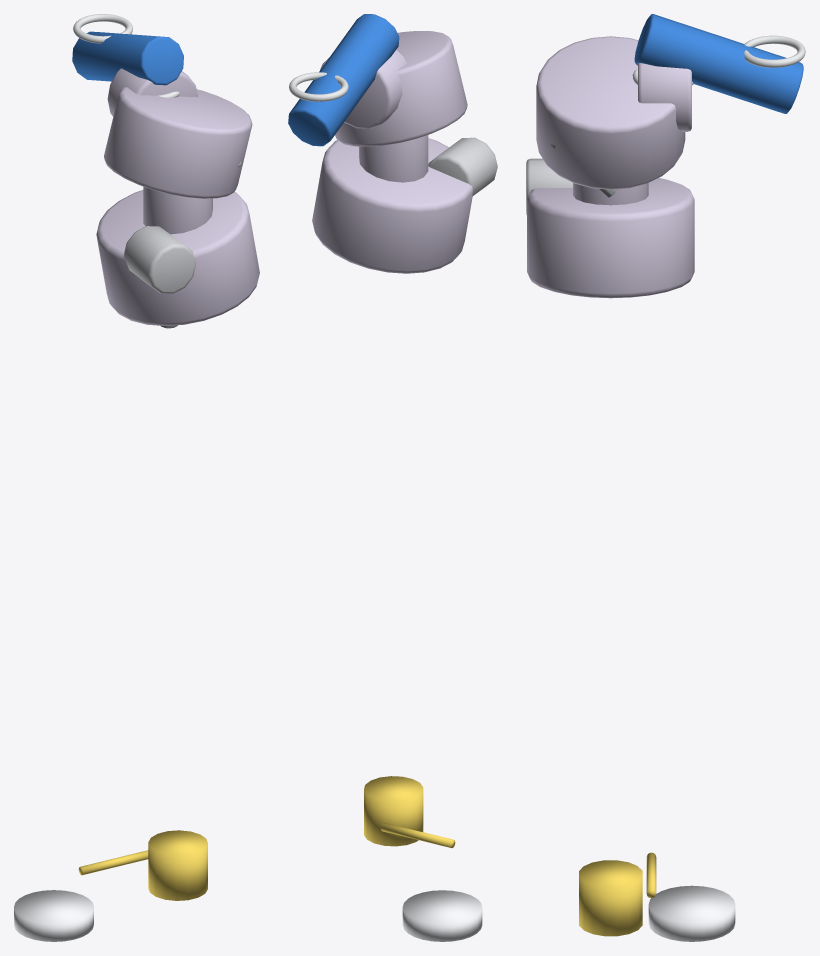
File: engine_v8_turbo_r.glb
3 views of the same model, side by side, from view 1: azimuth 30°, elevation 25°; view 2: azimuth 150°, elevation 25°; view 3: azimuth 270°, elevation 25° (orthographic). The views are drawn at different scales.
Visible parts, largest first — view 1: Engine_V8_Turbo_R, GEO_V8Turbo_WastegateActuator, GEO_V8Turbo_BilletImpeller; view 2: Engine_V8_Turbo_R, GEO_V8Turbo_WastegateActuator, GEO_V8Turbo_BilletImpeller; view 3: Engine_V8_Turbo_R, GEO_V8Turbo_WastegateActuator, GEO_V8Turbo_BilletImpeller.
Part boxes in pixels (<box>): Engine_V8_Turbo_R: <box>72,14,259,328</box>; GEO_V8Turbo_WastegateActuator: <box>78,830,207,900</box>; GEO_V8Turbo_BilletImpeller: <box>14,890,93,941</box>; Engine_V8_Turbo_R: <box>288,14,497,273</box>; GEO_V8Turbo_WastegateActuator: <box>364,776,455,847</box>; GEO_V8Turbo_BilletImpeller: <box>402,890,482,941</box>; Engine_V8_Turbo_R: <box>526,14,805,298</box>; GEO_V8Turbo_WastegateActuator: <box>579,852,656,936</box>; GEO_V8Turbo_BilletImpeller: <box>648,885,735,941</box>.
Size of the model in its own units: 0.1778 by 0.7766 by 0.2065.
